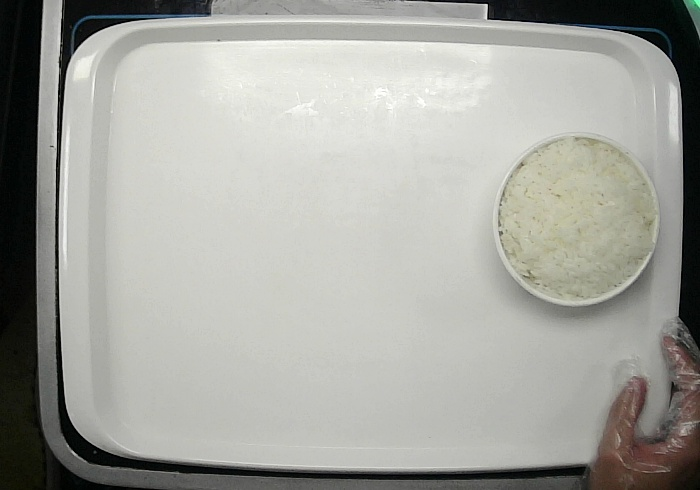HZYJPL-Fan_Wan: (491, 133, 661, 305)
